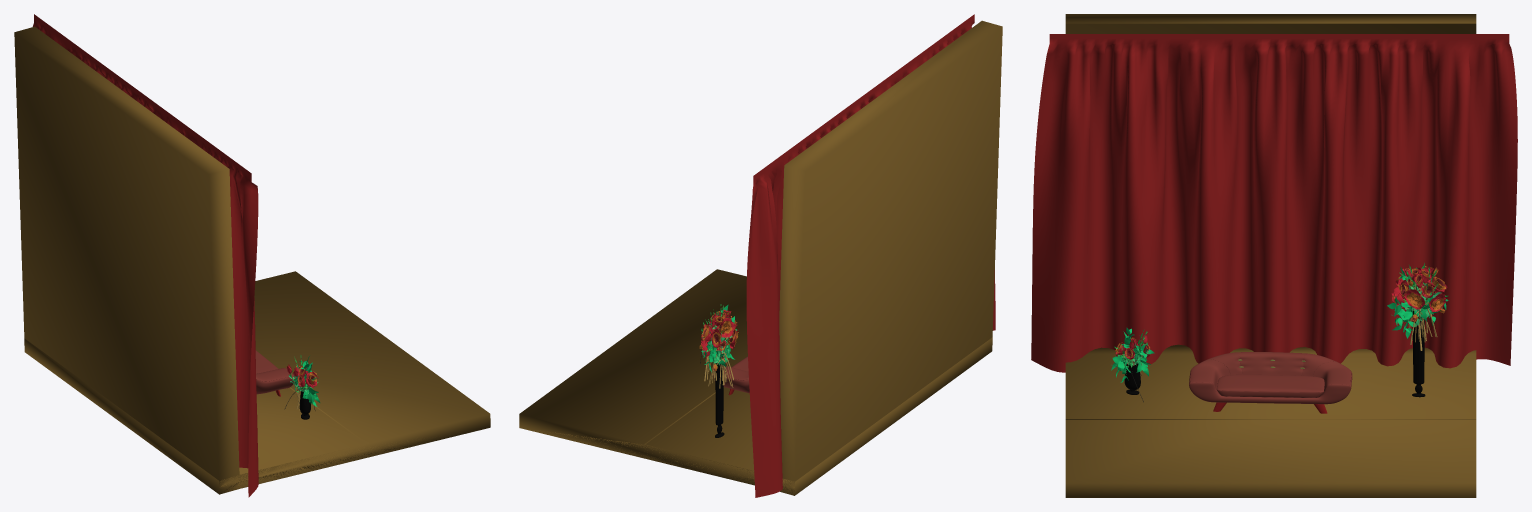
3 views of the same model, side by side, from view 1: azimuth 30°, elevation 25°; view 2: azimuth 150°, elevation 25°; view 3: azimuth 270°, elevation 25° (orthographic). The views are drawn at different scales.
Parts seen in each view (by area): view 1: Cube, Сurtain, Ritchie_Armchair_RainbowButtons; view 2: Cube, Сurtain, Ritchie_Armchair_RainbowButtons, vase1; view 3: Сurtain, Cube, Ritchie_Armchair_RainbowButtons, vase1.
Boxes of the visible parts, x1,y1,x2,y2 form: Cube: [14, 26, 490, 494]; Сurtain: [32, 14, 258, 497]; Ritchie_Armchair_RainbowButtons: [255, 350, 294, 396]; Cube: [519, 20, 1002, 495]; Сurtain: [746, 14, 995, 497]; Ritchie_Armchair_RainbowButtons: [713, 356, 749, 395]; vase1: [715, 356, 724, 437]; Сurtain: [1031, 34, 1517, 372]; Cube: [1065, 14, 1476, 497]; Ritchie_Armchair_RainbowButtons: [1189, 352, 1352, 413]; vase1: [1412, 311, 1425, 397].
Size of the model in its own units: 4.12 by 4.52 by 5.85.
